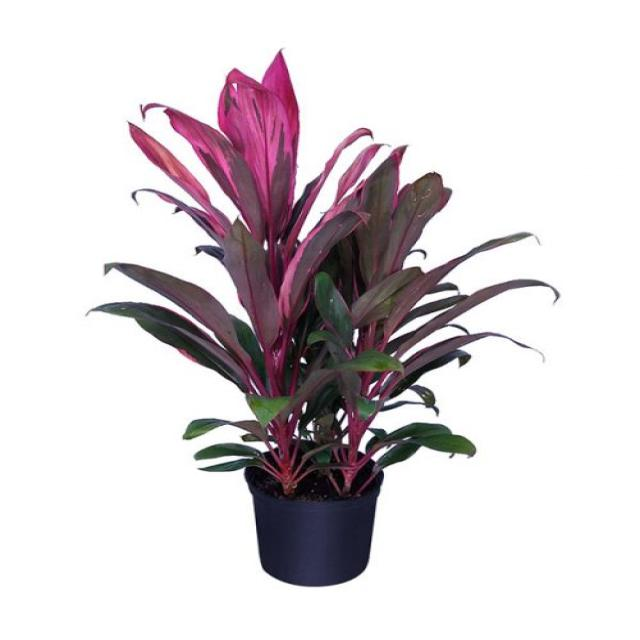Ti: (83, 47, 563, 494)
